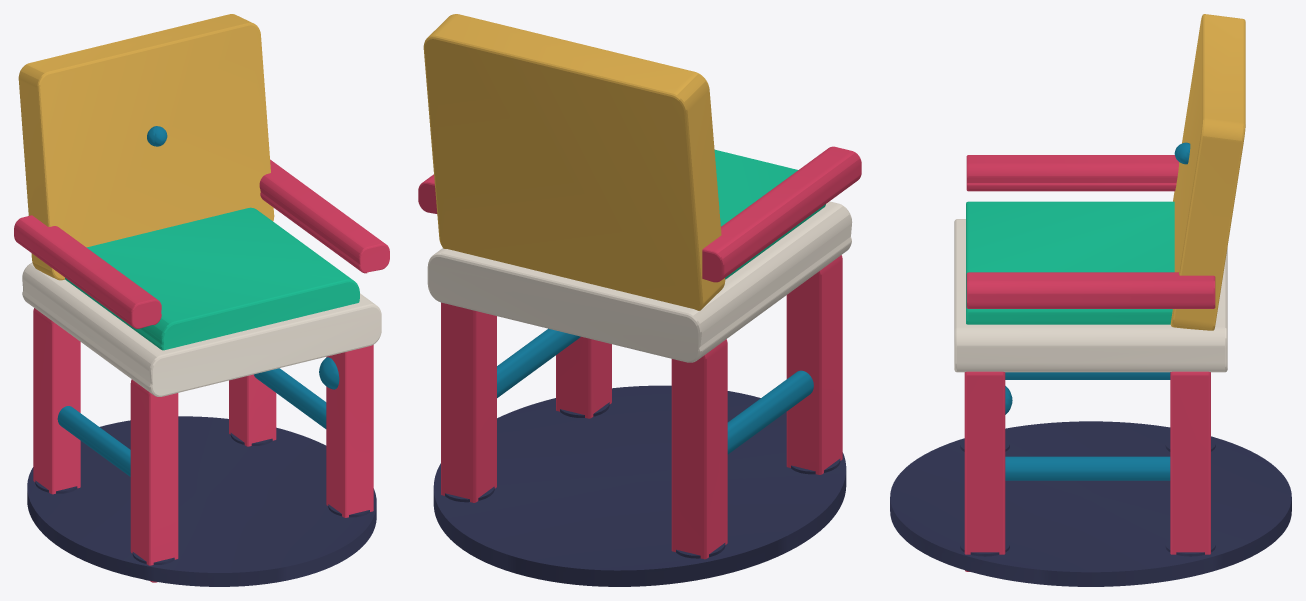
Rendered from 1341_城市运转图鉴_净水厂.glb.
3 views of the same model, side by side, from view 1: azimuth 30°, elevation 25°; view 2: azimuth 150°, elevation 25°; view 3: azimuth 270°, elevation 25° (orthographic). The views are drawn at different scales.
Visible parts, largest first — view 1: card_1341; view 2: card_1341; view 3: card_1341.
Boxes of the visible parts, x1,y1,x2,y2 form: card_1341: [14, 14, 389, 586]; card_1341: [418, 14, 861, 586]; card_1341: [890, 14, 1291, 586].
Bounding box in the file's own units: 0.7188 × 1 × 0.8085.
